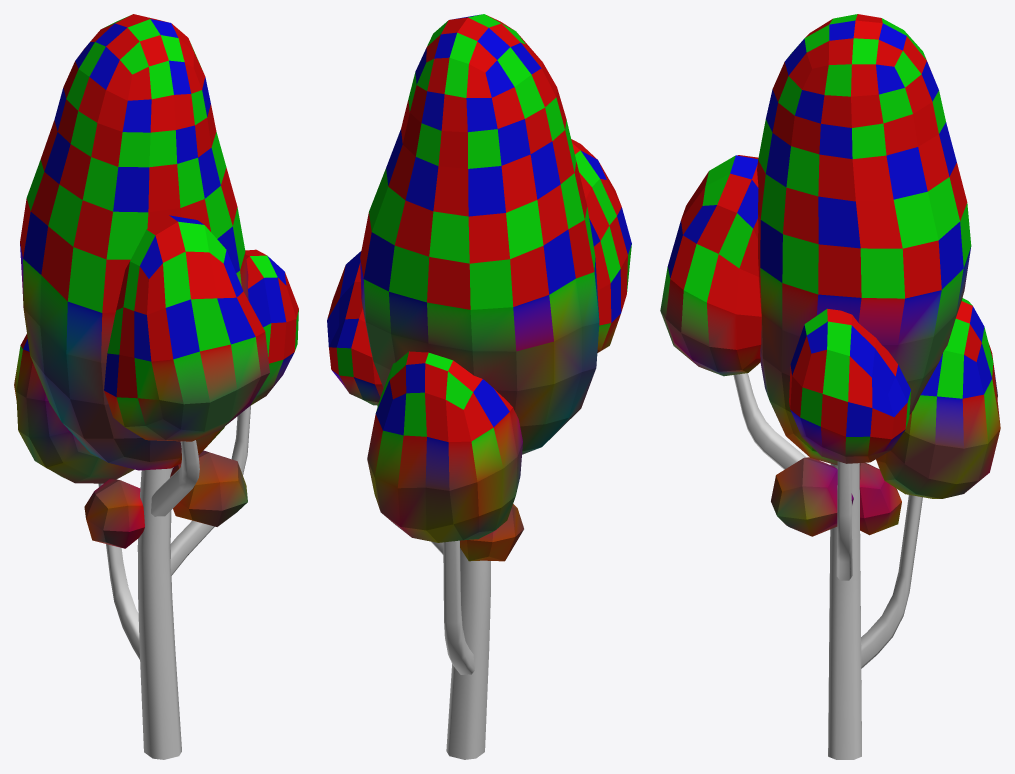
File: Tree_B_03.fbx
3 views of the same model, side by side, from view 1: azimuth 30°, elevation 25°; view 2: azimuth 150°, elevation 25°; view 3: azimuth 270°, elevation 25° (orthographic).
Visible parts, largest first — view 1: Tree_B_03_Leaves, Tree_B_03_Trunk; view 2: Tree_B_03_Leaves, Tree_B_03_Trunk; view 3: Tree_B_03_Leaves, Tree_B_03_Trunk.
Boxes of the visible parts, bbox=[...] form: Tree_B_03_Leaves: bbox=[14, 14, 298, 548]; Tree_B_03_Trunk: bbox=[98, 405, 250, 759]; Tree_B_03_Leaves: bbox=[327, 14, 631, 561]; Tree_B_03_Trunk: bbox=[377, 405, 490, 759]; Tree_B_03_Leaves: bbox=[660, 14, 1000, 536]; Tree_B_03_Trunk: bbox=[733, 373, 922, 759].
Size of the model in its own units: 1.72 by 4.82 by 2.04.
